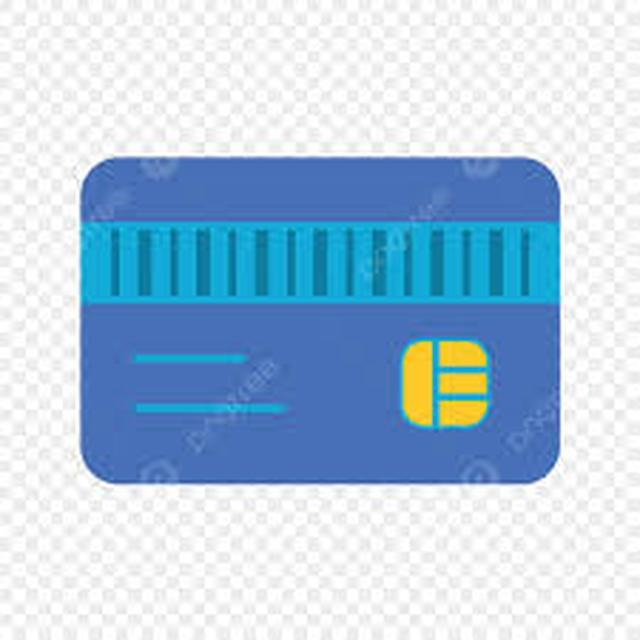card: (92, 155, 560, 488)
